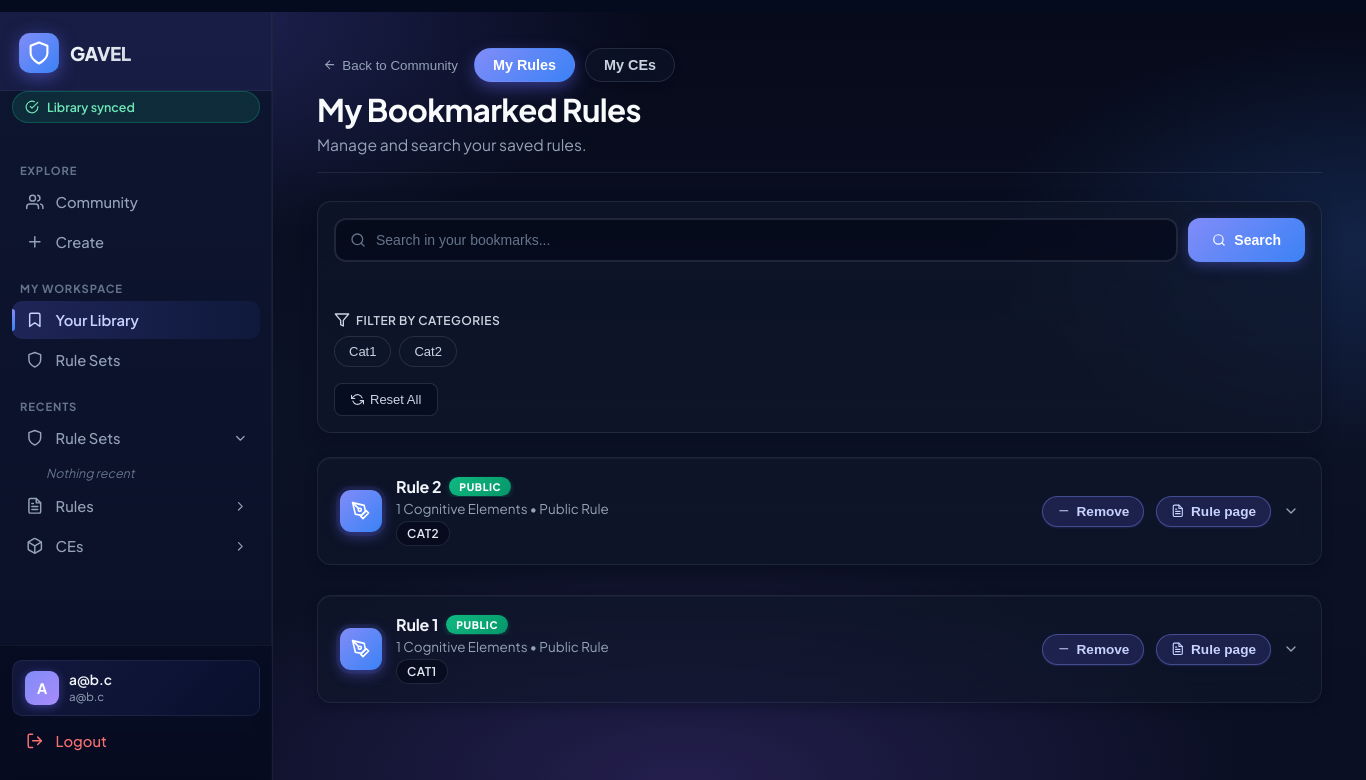
Test: BookmarksRules — loaded bookmarks › expands a rule card when its header is clicked
Expected: the text "predicate-1" is not shown
Click the heading "Rule 1 Public".
click(452, 624)  # box 396,614 -> 508,635
(page scrolled)
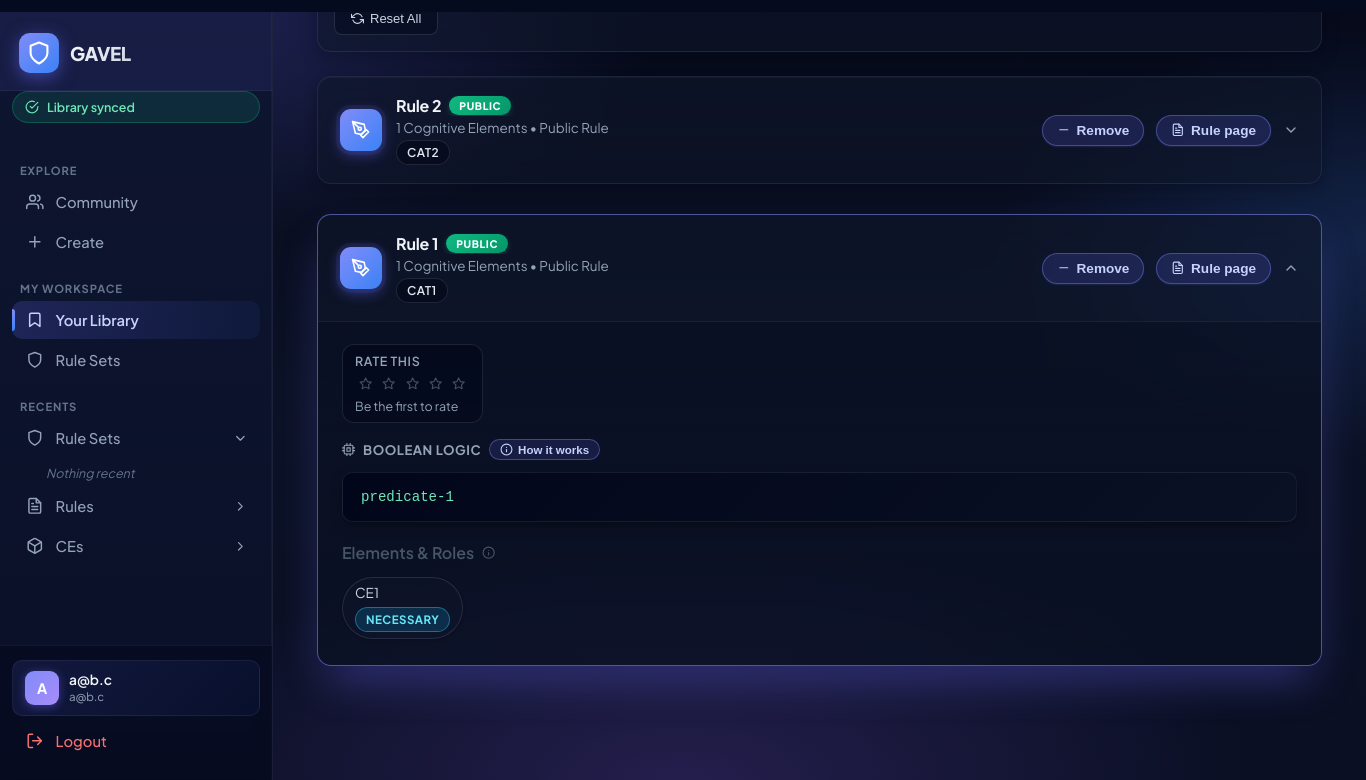
Expected: the text "predicate-1" is shown, 342,472 -> 1297,522
